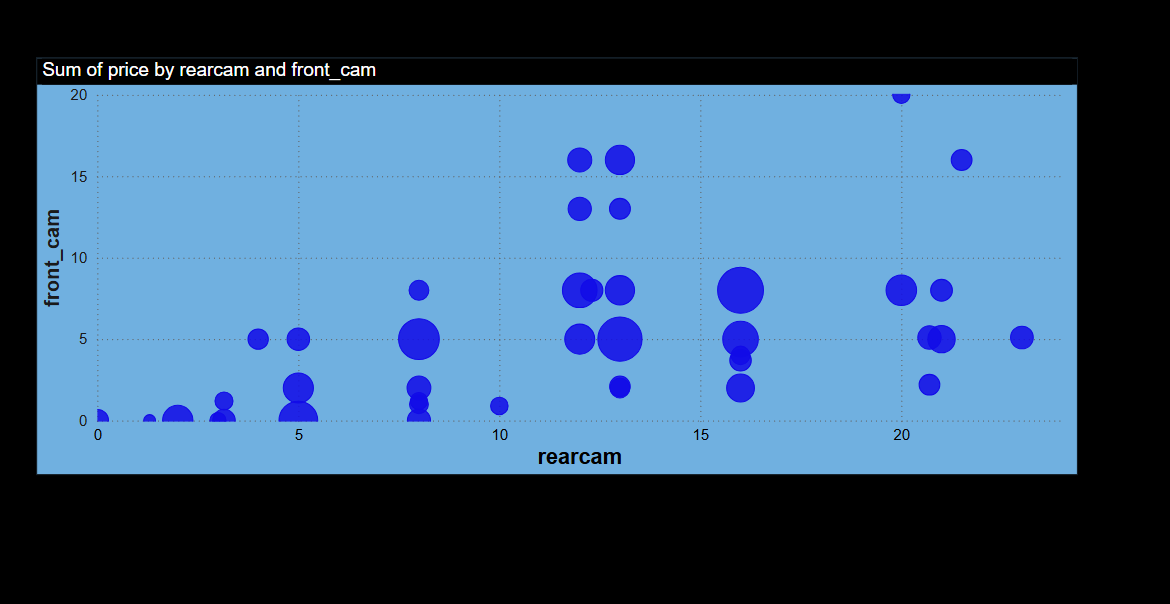

The page's visual inventory and layout, read from the dashboard file:
{"tool":"powerbi","page":{"name":"Page 2","canvas":[1280,720],"ordinal":1},"visuals":[{"type":"scatterChart","fields":{"X":["Sheet1.rearcam"],"Y":["Sheet1.front_cam"],"Size":["Sum(Sheet1.price)"]},"box":[89.6,130.8,1022.6,409.6],"z":0}]}

Visuals, with their boxes on the page's 1280x720 design canvas (x1, y1, x2, y2). These are canvas units, not pixel positions in the 1170x604 screenshot, which may show the page scaled, cropped or inside an application window:
scatterChart - Sheet1.rearcam x Sheet1.front_cam: 90/131/1112/540
